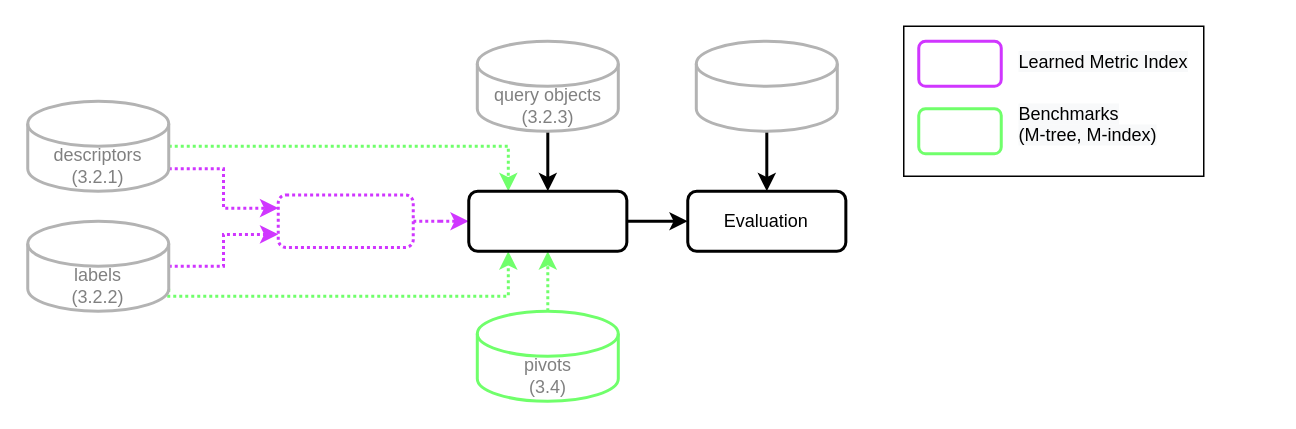
Some shapes in this 1296 by 429 pixel diagram are drawn without their labels. Each missing label, with the centre of its shape:
ground-truth (3.2.3): (766,85)
Index building: (345,220)
Searching: (547,220)
